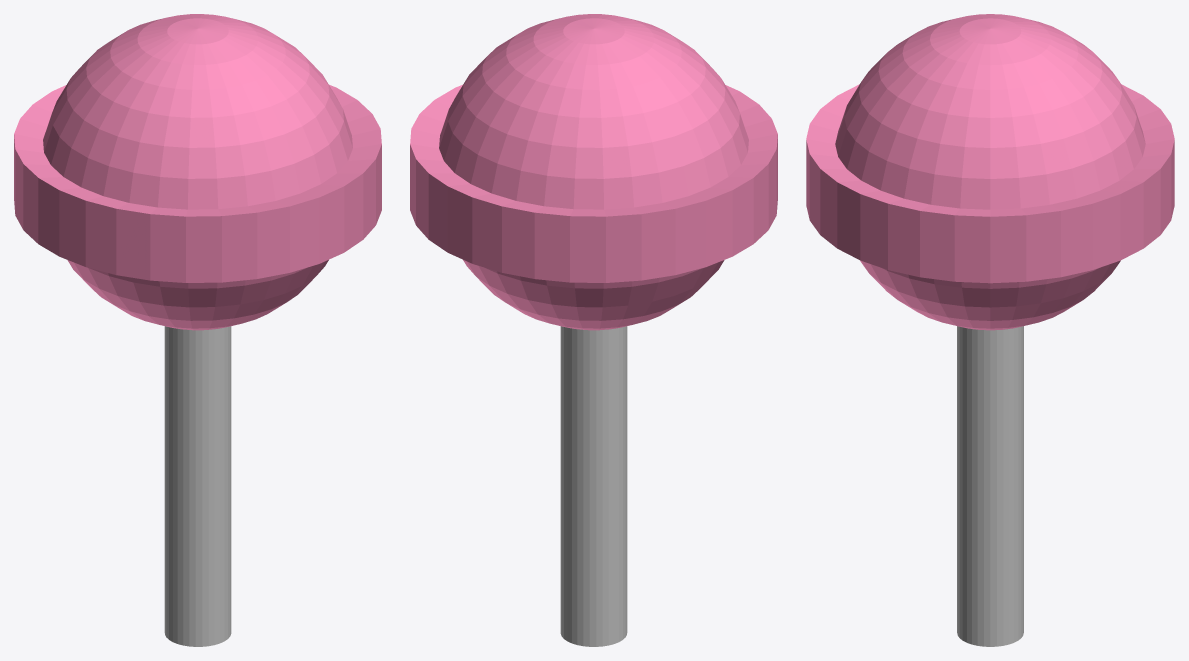
Rendered from lollipop.fbx.
3 renders of one model, left to right at view 1: azimuth 30°, elevation 25°; view 2: azimuth 150°, elevation 25°; view 3: azimuth 270°, elevation 25°, orthographic.
Visible parts, largest first — view 1: Sphere; view 2: Sphere; view 3: Sphere.
Boxes of the visible parts, x1,y1,x2,y2 form: Sphere: [14, 14, 381, 646]; Sphere: [410, 14, 777, 646]; Sphere: [806, 14, 1174, 646].
Size of the model in its own units: 233 by 421 by 233.
